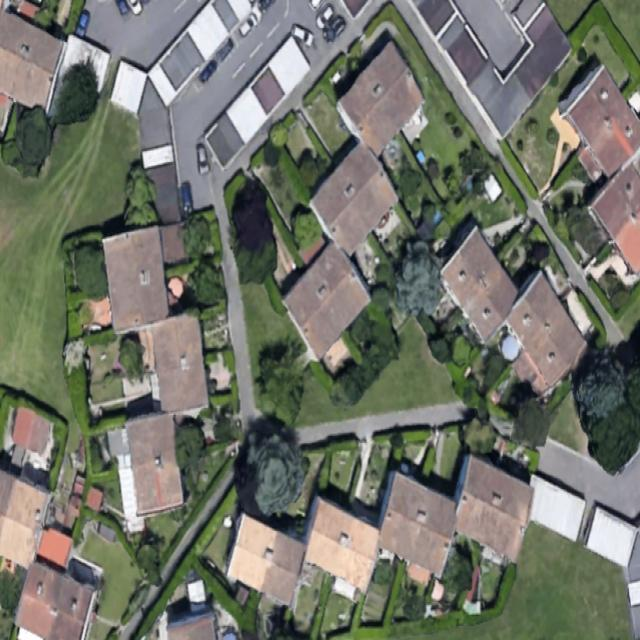maison: (477, 270, 596, 400), (269, 241, 383, 358), (328, 40, 440, 156), (426, 226, 531, 344), (299, 142, 408, 254), (435, 456, 548, 560), (370, 473, 465, 576), (214, 513, 317, 607), (290, 497, 392, 591), (10, 560, 98, 640), (0, 9, 69, 111), (102, 228, 169, 332), (149, 313, 210, 416), (123, 412, 184, 514), (0, 470, 51, 568)
